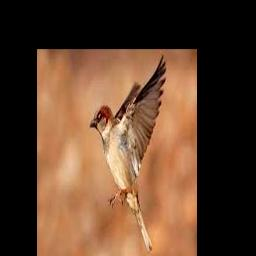Sparrow: (89, 54, 166, 251)
